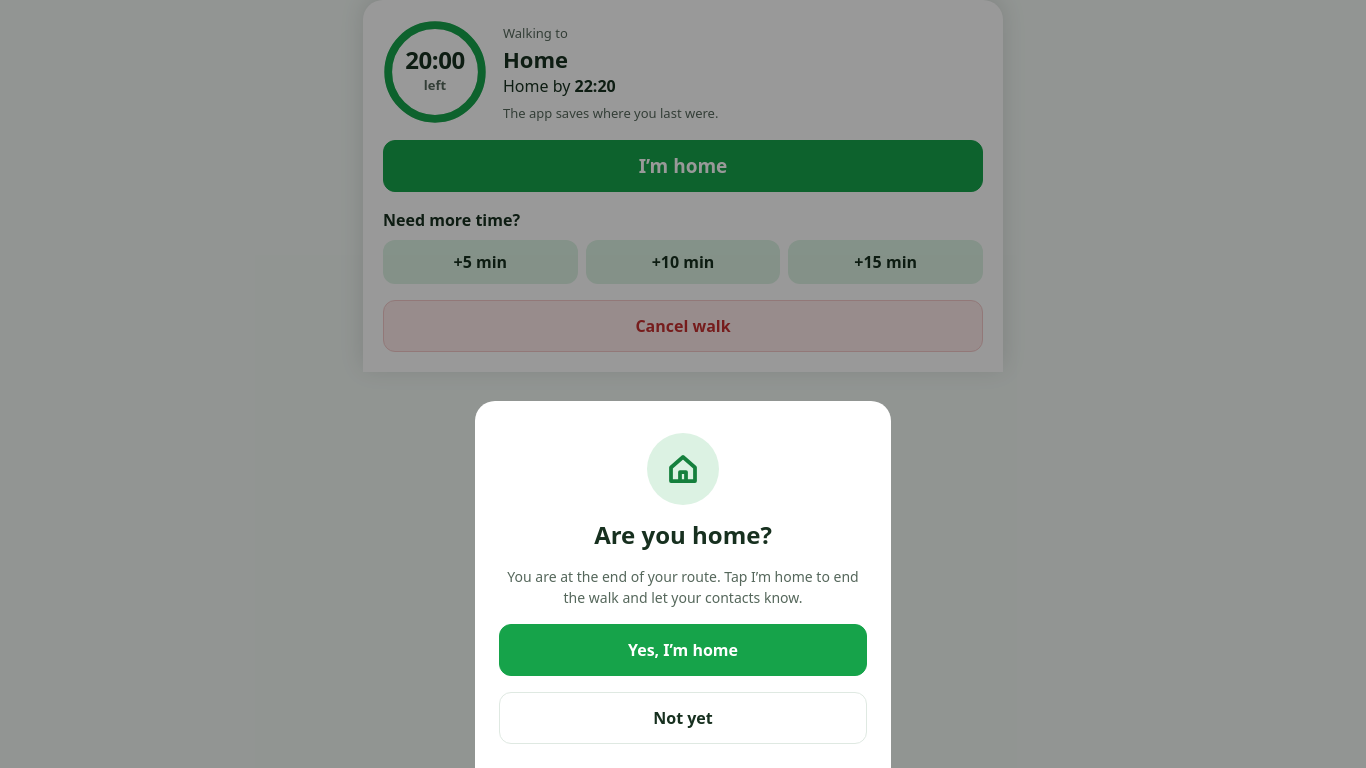
Test: "Not yet" closes the question and it is not asked again on this walk
Click the button "Not yet".
click(683, 718)  # box [499,692,867,744]
Wait 60000 ms
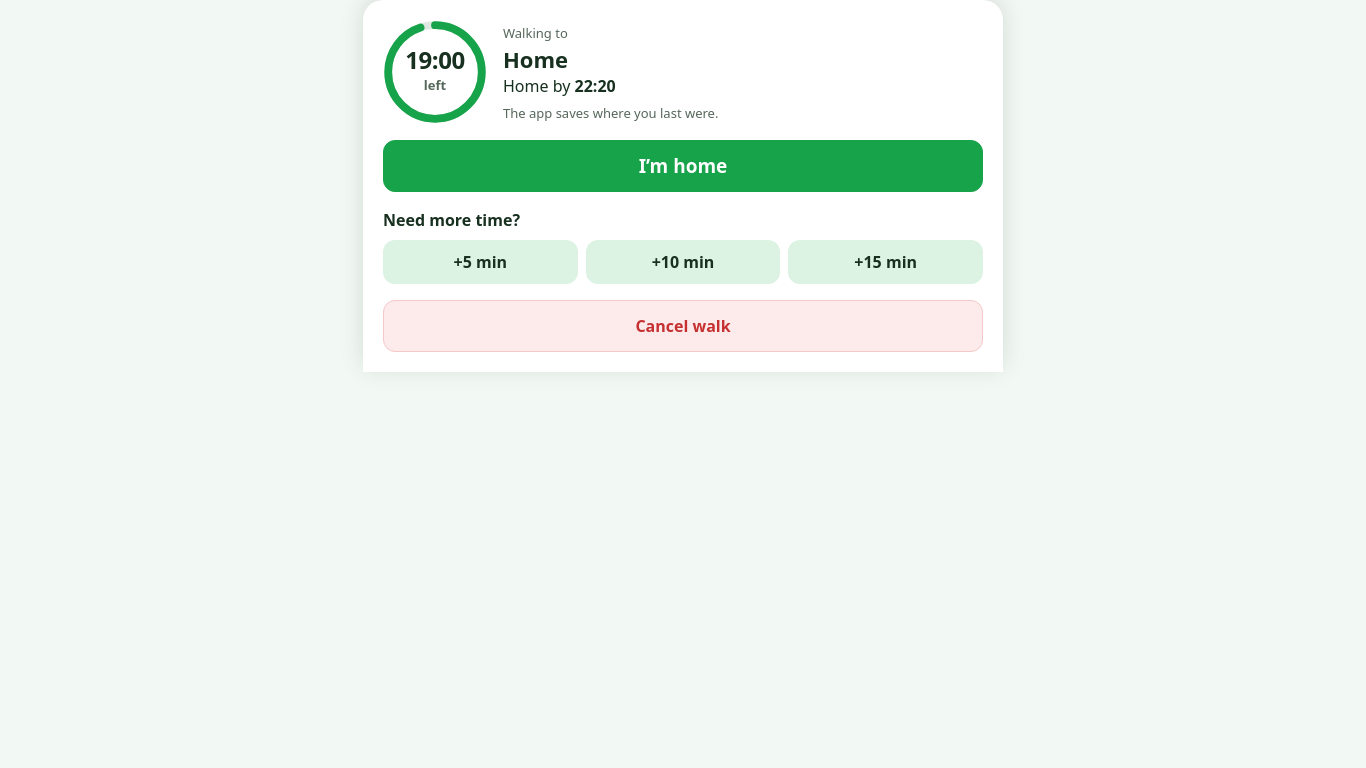
Expected: the heading "Are you home?" is gone
